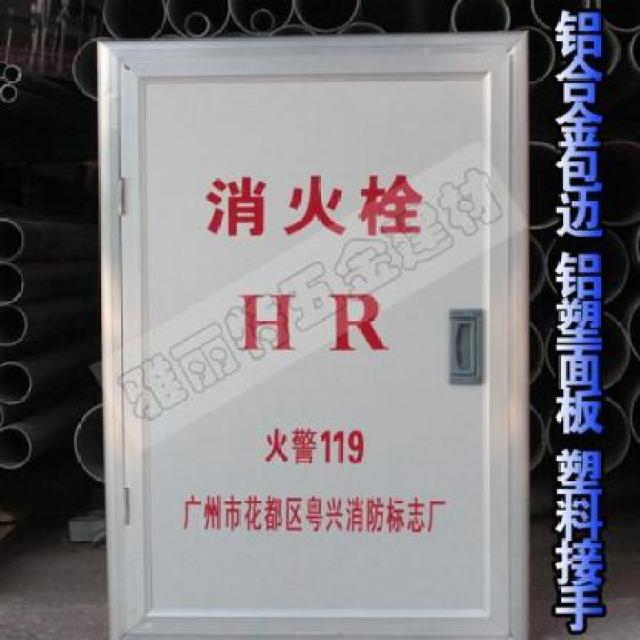firehydrant: (90, 27, 536, 640)
